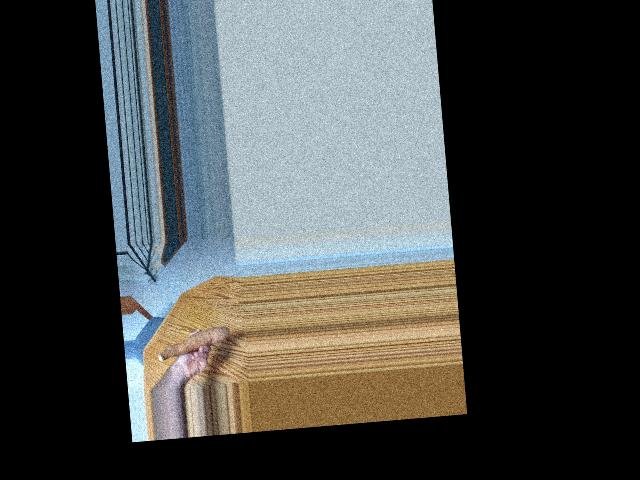sweet_potato: (156, 322, 229, 368)
